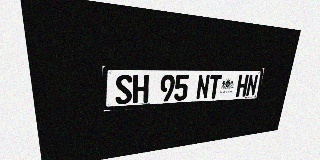5: (174, 75, 189, 101)
9: (160, 75, 175, 102)
H: (133, 75, 149, 103), (236, 74, 249, 97)
N: (196, 75, 210, 100), (245, 74, 259, 96)
S: (115, 75, 132, 105)
T: (208, 75, 222, 99)
